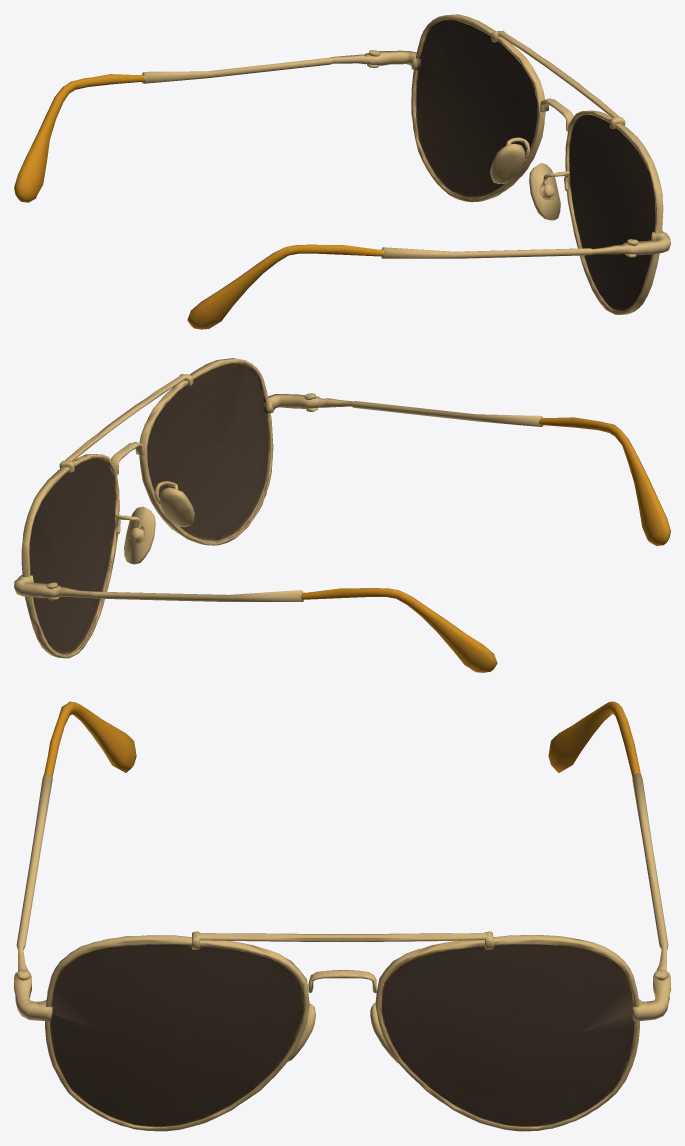
File: sunglasses.glb
The picture shows the model from 3 angles, top to bottom: view 1: azimuth 30°, elevation 25°; view 2: azimuth 150°, elevation 25°; view 3: azimuth 270°, elevation 25°; orthographic projection. The views are drawn at different scales.
Visible parts, largest first — view 1: tripo_node_780ffd67-000c-4829-8946-653ae15b4d54; view 2: tripo_node_780ffd67-000c-4829-8946-653ae15b4d54; view 3: tripo_node_780ffd67-000c-4829-8946-653ae15b4d54.
Boxes of the visible parts, left/top/right/bottom form: tripo_node_780ffd67-000c-4829-8946-653ae15b4d54: left=14, top=14, right=670, bottom=329; tripo_node_780ffd67-000c-4829-8946-653ae15b4d54: left=14, top=358, right=670, bottom=672; tripo_node_780ffd67-000c-4829-8946-653ae15b4d54: left=14, top=701, right=670, bottom=1131.
Bounding box in the file's own units: 0.998 × 0.3574 × 0.9941.
Materials: 1 (1 with a texture image).
